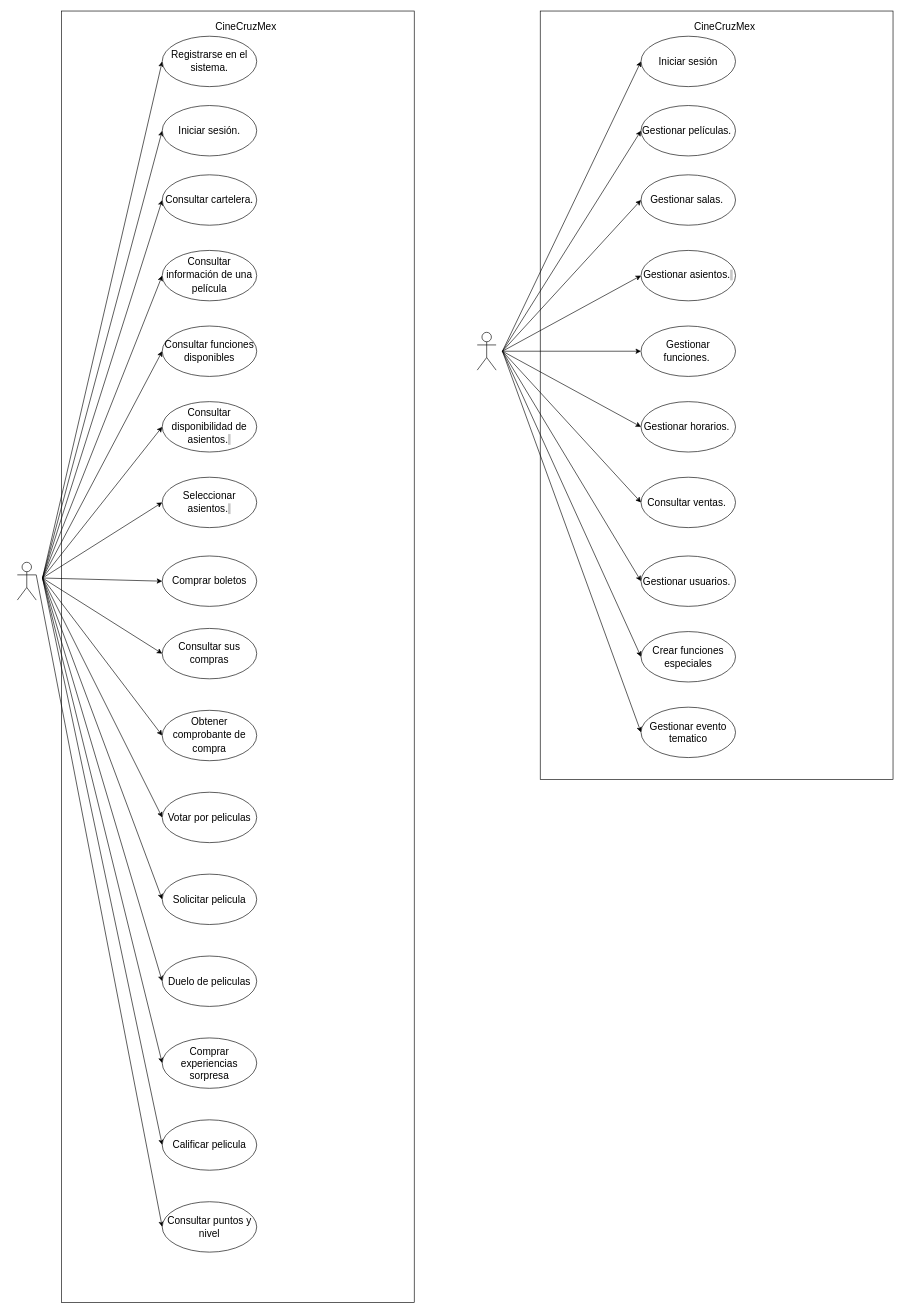
The diagram is 904 pixels wide and 1314 high, and some of its shapes have lost their labels. The shapes that lost their labels are listed below. From the top down, each one's centre as x and y in pixels, then its label:
At (x=486, y=351): "Administrador".
At (x=26, y=581): "Cliente".
